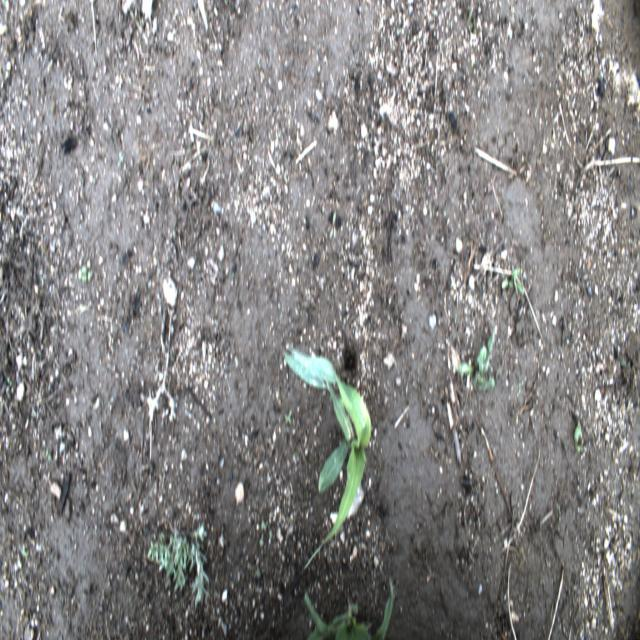crop: (283, 343, 371, 570), (303, 576, 396, 640)
weed: (147, 525, 210, 611), (458, 325, 497, 390), (501, 268, 524, 296), (572, 419, 584, 455), (77, 264, 94, 284), (247, 562, 261, 579), (468, 9, 477, 35), (260, 521, 266, 547), (20, 549, 30, 562), (284, 409, 292, 425), (620, 359, 631, 367), (7, 375, 12, 388)
